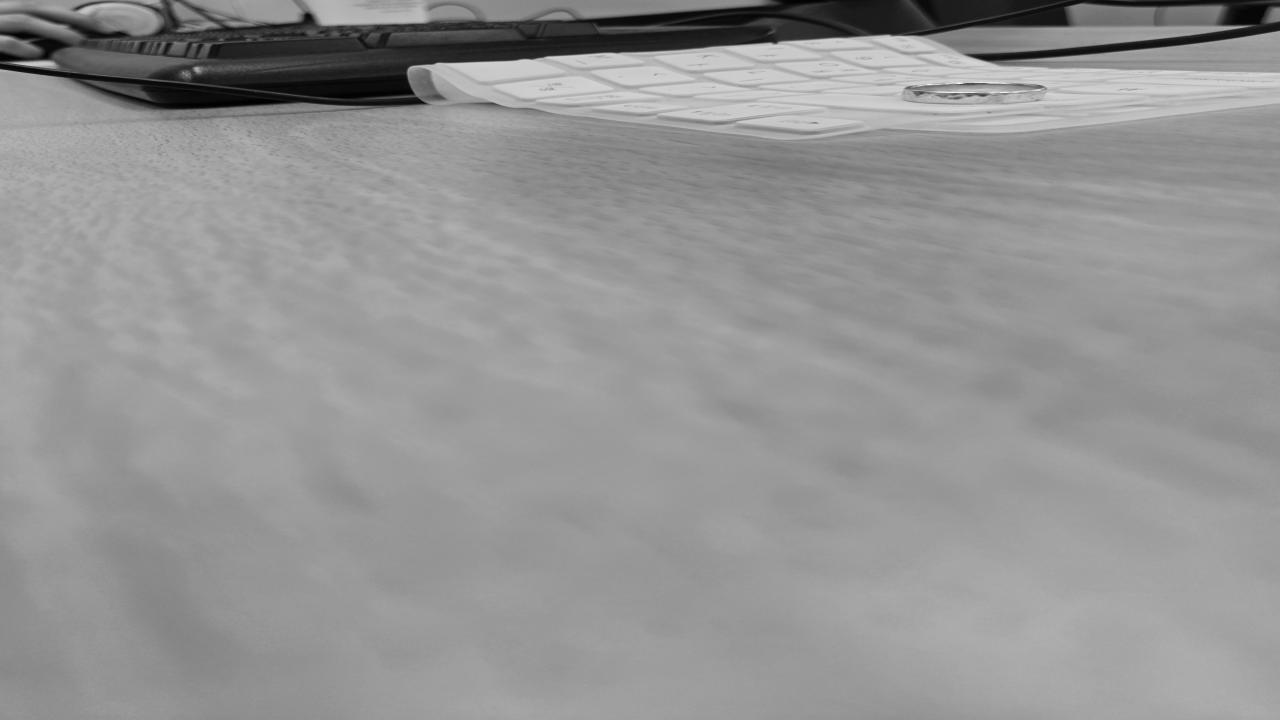ring: (899, 82, 1047, 106)
